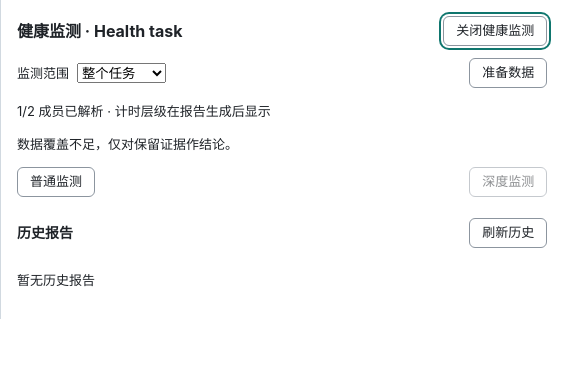
Test: shows BUSY as a translated error without automatic retry
The image size is (568, 370).
Click the button "普通监测". click: x=56, y=182
box: [17,167,95,197]
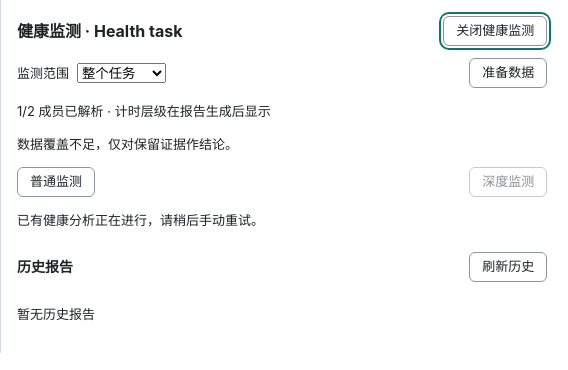
Result: the text "已有健康分析正在进行" is shown at [17,212,264,228]
